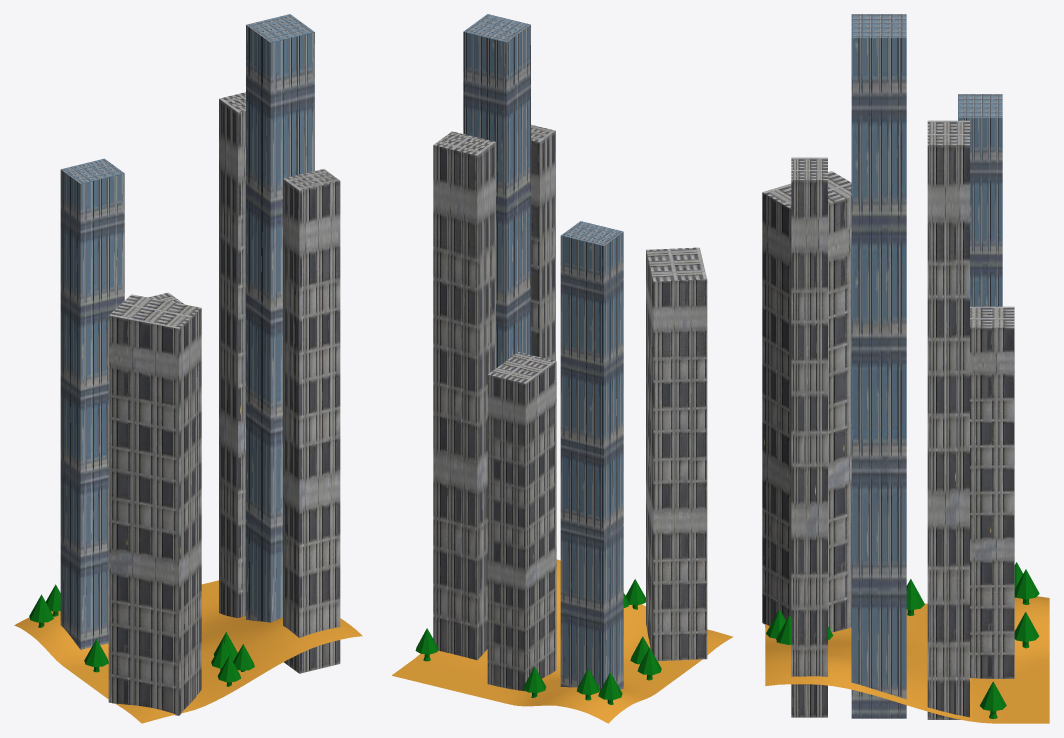
The model's file is Nav.glb.
3 views of the same model, side by side, from view 1: azimuth 30°, elevation 25°; view 2: azimuth 150°, elevation 25°; view 3: azimuth 270°, elevation 25° (orthographic). The views are drawn at different scales.
Visible parts, largest first — view 1: Cube.005, Cube.002, Cube.003, Cube, Cube.004, Floor; view 2: Cube.004, Cube, Cube.005, Cube.001, Cube.003, Floor, Cube.002; view 3: Cube.003, Cube.004, Cube.005, Cube.002, Cube.001, Floor, Cube, Tree.004, Tree.003, Tree.006.
Boxes of the visible parts, bbox=[...] form: Cube.005: bbox=[108, 294, 201, 715]; Cube.002: bbox=[283, 169, 340, 673]; Cube.003: bbox=[246, 14, 314, 622]; Cube: bbox=[60, 158, 124, 649]; Cube.004: bbox=[219, 92, 245, 617]; Floor: bbox=[14, 580, 362, 723]; Cube.004: bbox=[433, 131, 495, 660]; Cube: bbox=[560, 221, 623, 691]; Cube.005: bbox=[646, 247, 707, 661]; Cube.001: bbox=[487, 352, 556, 691]; Cube.003: bbox=[463, 14, 530, 367]; Floor: bbox=[392, 559, 733, 723]; Cube.002: bbox=[531, 124, 555, 360]; Cube.003: bbox=[851, 14, 906, 718]; Cube.004: bbox=[927, 120, 969, 719]; Cube.005: bbox=[762, 171, 851, 632]; Cube.002: bbox=[791, 157, 827, 717]; Cube.001: bbox=[970, 306, 1014, 678]; Floor: bbox=[765, 596, 1049, 723]; Cube: bbox=[958, 94, 1002, 306]; Tree.004: bbox=[980, 681, 1006, 718]; Tree.003: bbox=[1014, 612, 1039, 648]; Tree.006: bbox=[1014, 569, 1039, 604].
Size of the model in its own units: 20.27 by 53.03 by 20.21.
4 materials, 2 textured.
